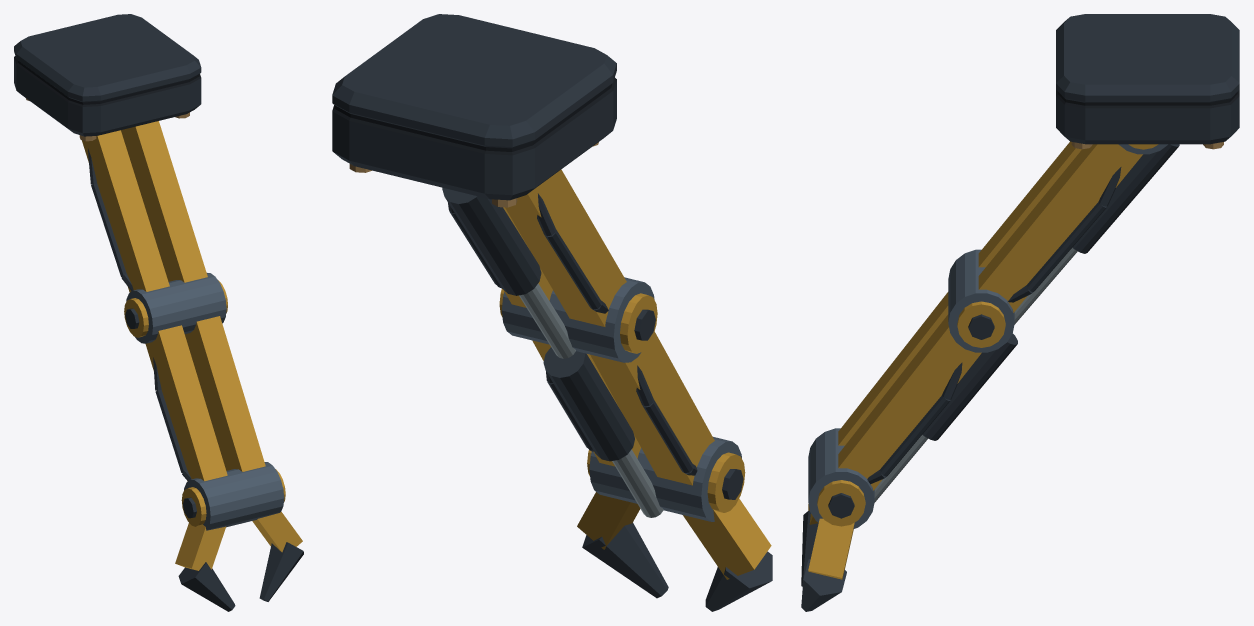
File: A-12_sorting_claw_lowered.glb
3 views of the same model, side by side, from view 1: azimuth 30°, elevation 25°; view 2: azimuth 150°, elevation 25°; view 3: azimuth 270°, elevation 25° (orthographic). The views are drawn at different scales.
Parts seen in each view (by area): view 1: A-12_sorting_claw_lowered; view 2: A-12_sorting_claw_lowered; view 3: A-12_sorting_claw_lowered.
Boxes of the visible parts, x1,y1,x2,y2 form: A-12_sorting_claw_lowered: (14,14,303,611); A-12_sorting_claw_lowered: (332,14,772,611); A-12_sorting_claw_lowered: (801,14,1239,611).
Bounding box in the file's own units: 0.42 × 1.39 × 1.
